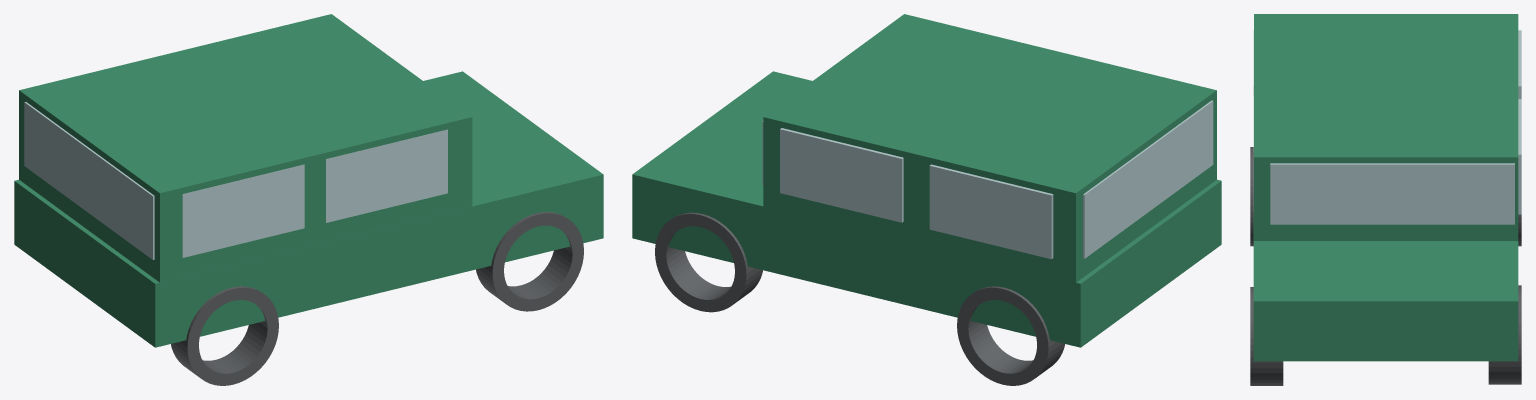
Rendered from cocheVerdeCubo.glb.
3 renders of one model, left to right at view 1: azimuth 30°, elevation 25°; view 2: azimuth 150°, elevation 25°; view 3: azimuth 270°, elevation 25°, orthographic. The views are drawn at different scales.
Visible parts, largest first — view 1: Mesh_Mesh_head_geo.001_lambert2SG.001; view 2: Mesh_Mesh_head_geo.001_lambert2SG.001; view 3: Mesh_Mesh_head_geo.001_lambert2SG.001.
Boxes of the visible parts, left/top/right/bottom form: Mesh_Mesh_head_geo.001_lambert2SG.001: left=14, top=14, right=603, bottom=385; Mesh_Mesh_head_geo.001_lambert2SG.001: left=632, top=14, right=1221, bottom=385; Mesh_Mesh_head_geo.001_lambert2SG.001: left=1250, top=14, right=1521, bottom=385.
Bounding box in the file's own units: 0.147 × 0.065 × 0.082.
